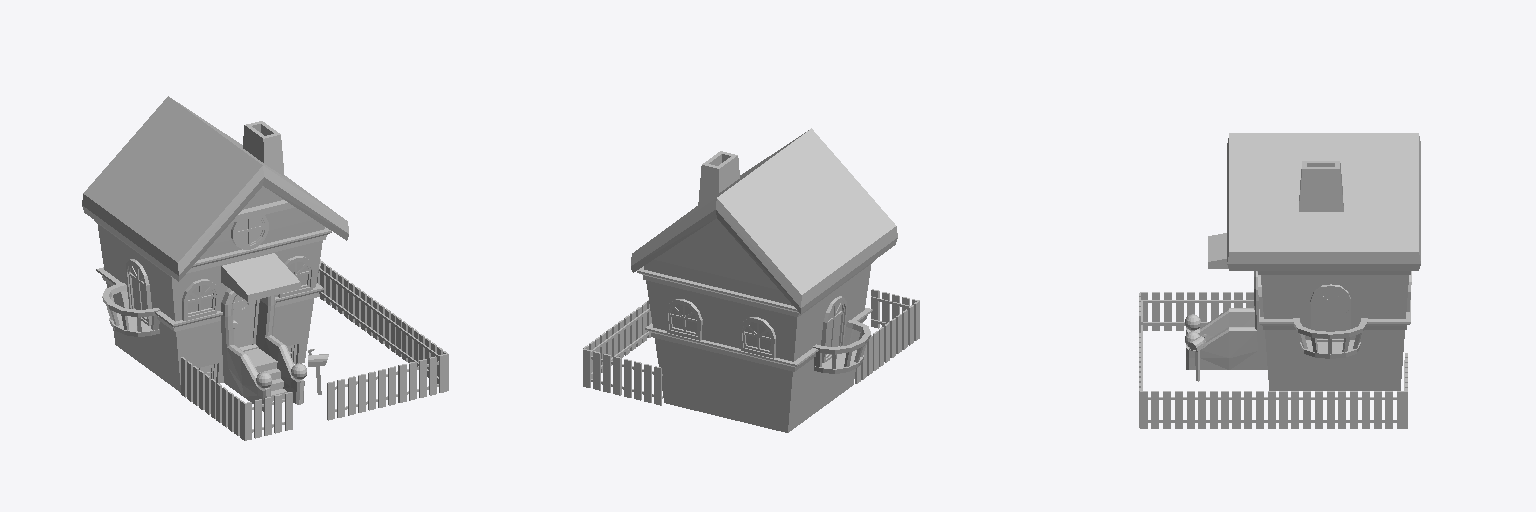
Rendered from House_02.obj.
3 renders of one model, left to right at view 1: azimuth 30°, elevation 25°; view 2: azimuth 150°, elevation 25°; view 3: azimuth 270°, elevation 25°, orthographic.
Parts seen in each view (by area): view 1: House_02; view 2: House_02; view 3: House_02.
Boxes of the visible parts, x1,y1,x2,y2 form: House_02: [82, 96, 448, 440]; House_02: [583, 128, 919, 432]; House_02: [1139, 133, 1420, 428].
Size of the model in its own units: 450 by 398 by 448.